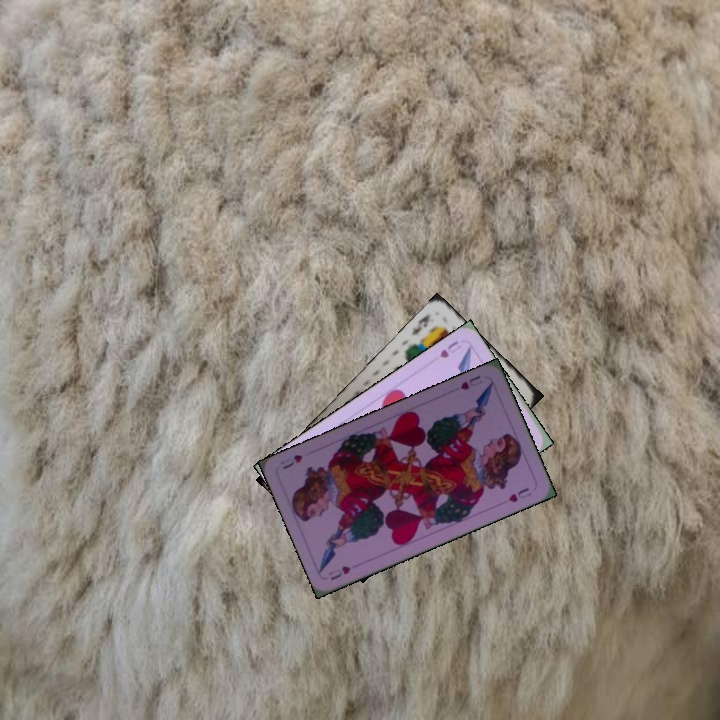EK: (408, 310, 434, 338)
HU: (436, 336, 464, 361), (456, 371, 485, 393), (324, 562, 353, 583)
